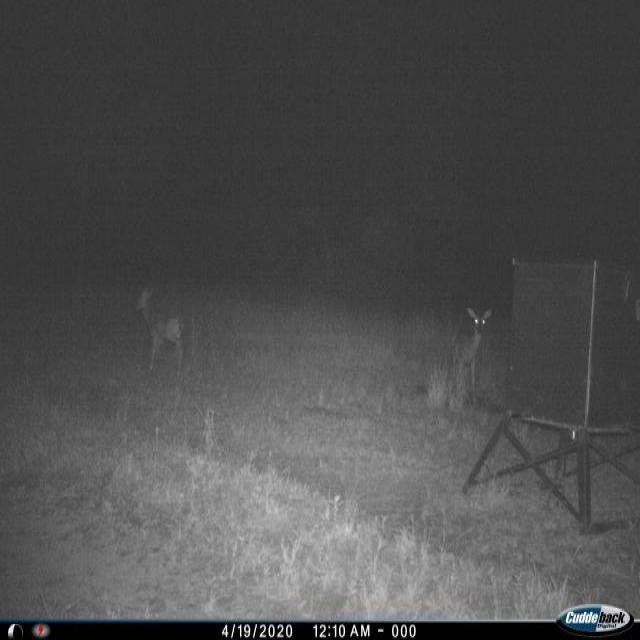deer: (128, 283, 193, 376), (444, 304, 497, 412)
